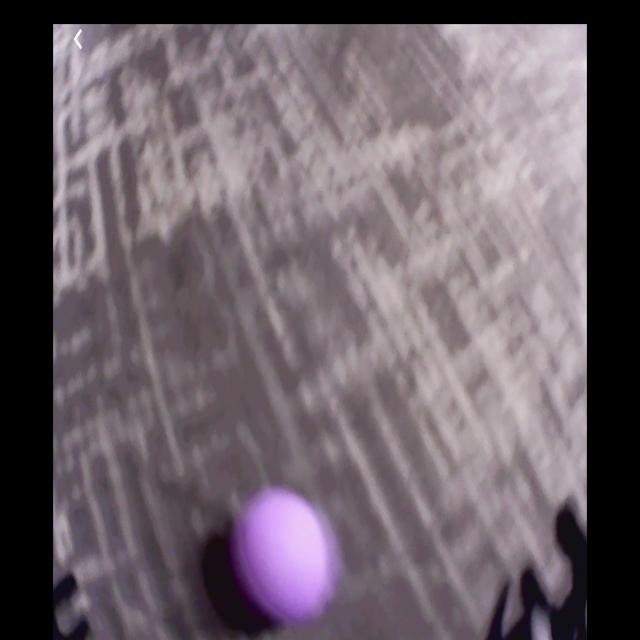ball: (234, 490, 337, 622)
